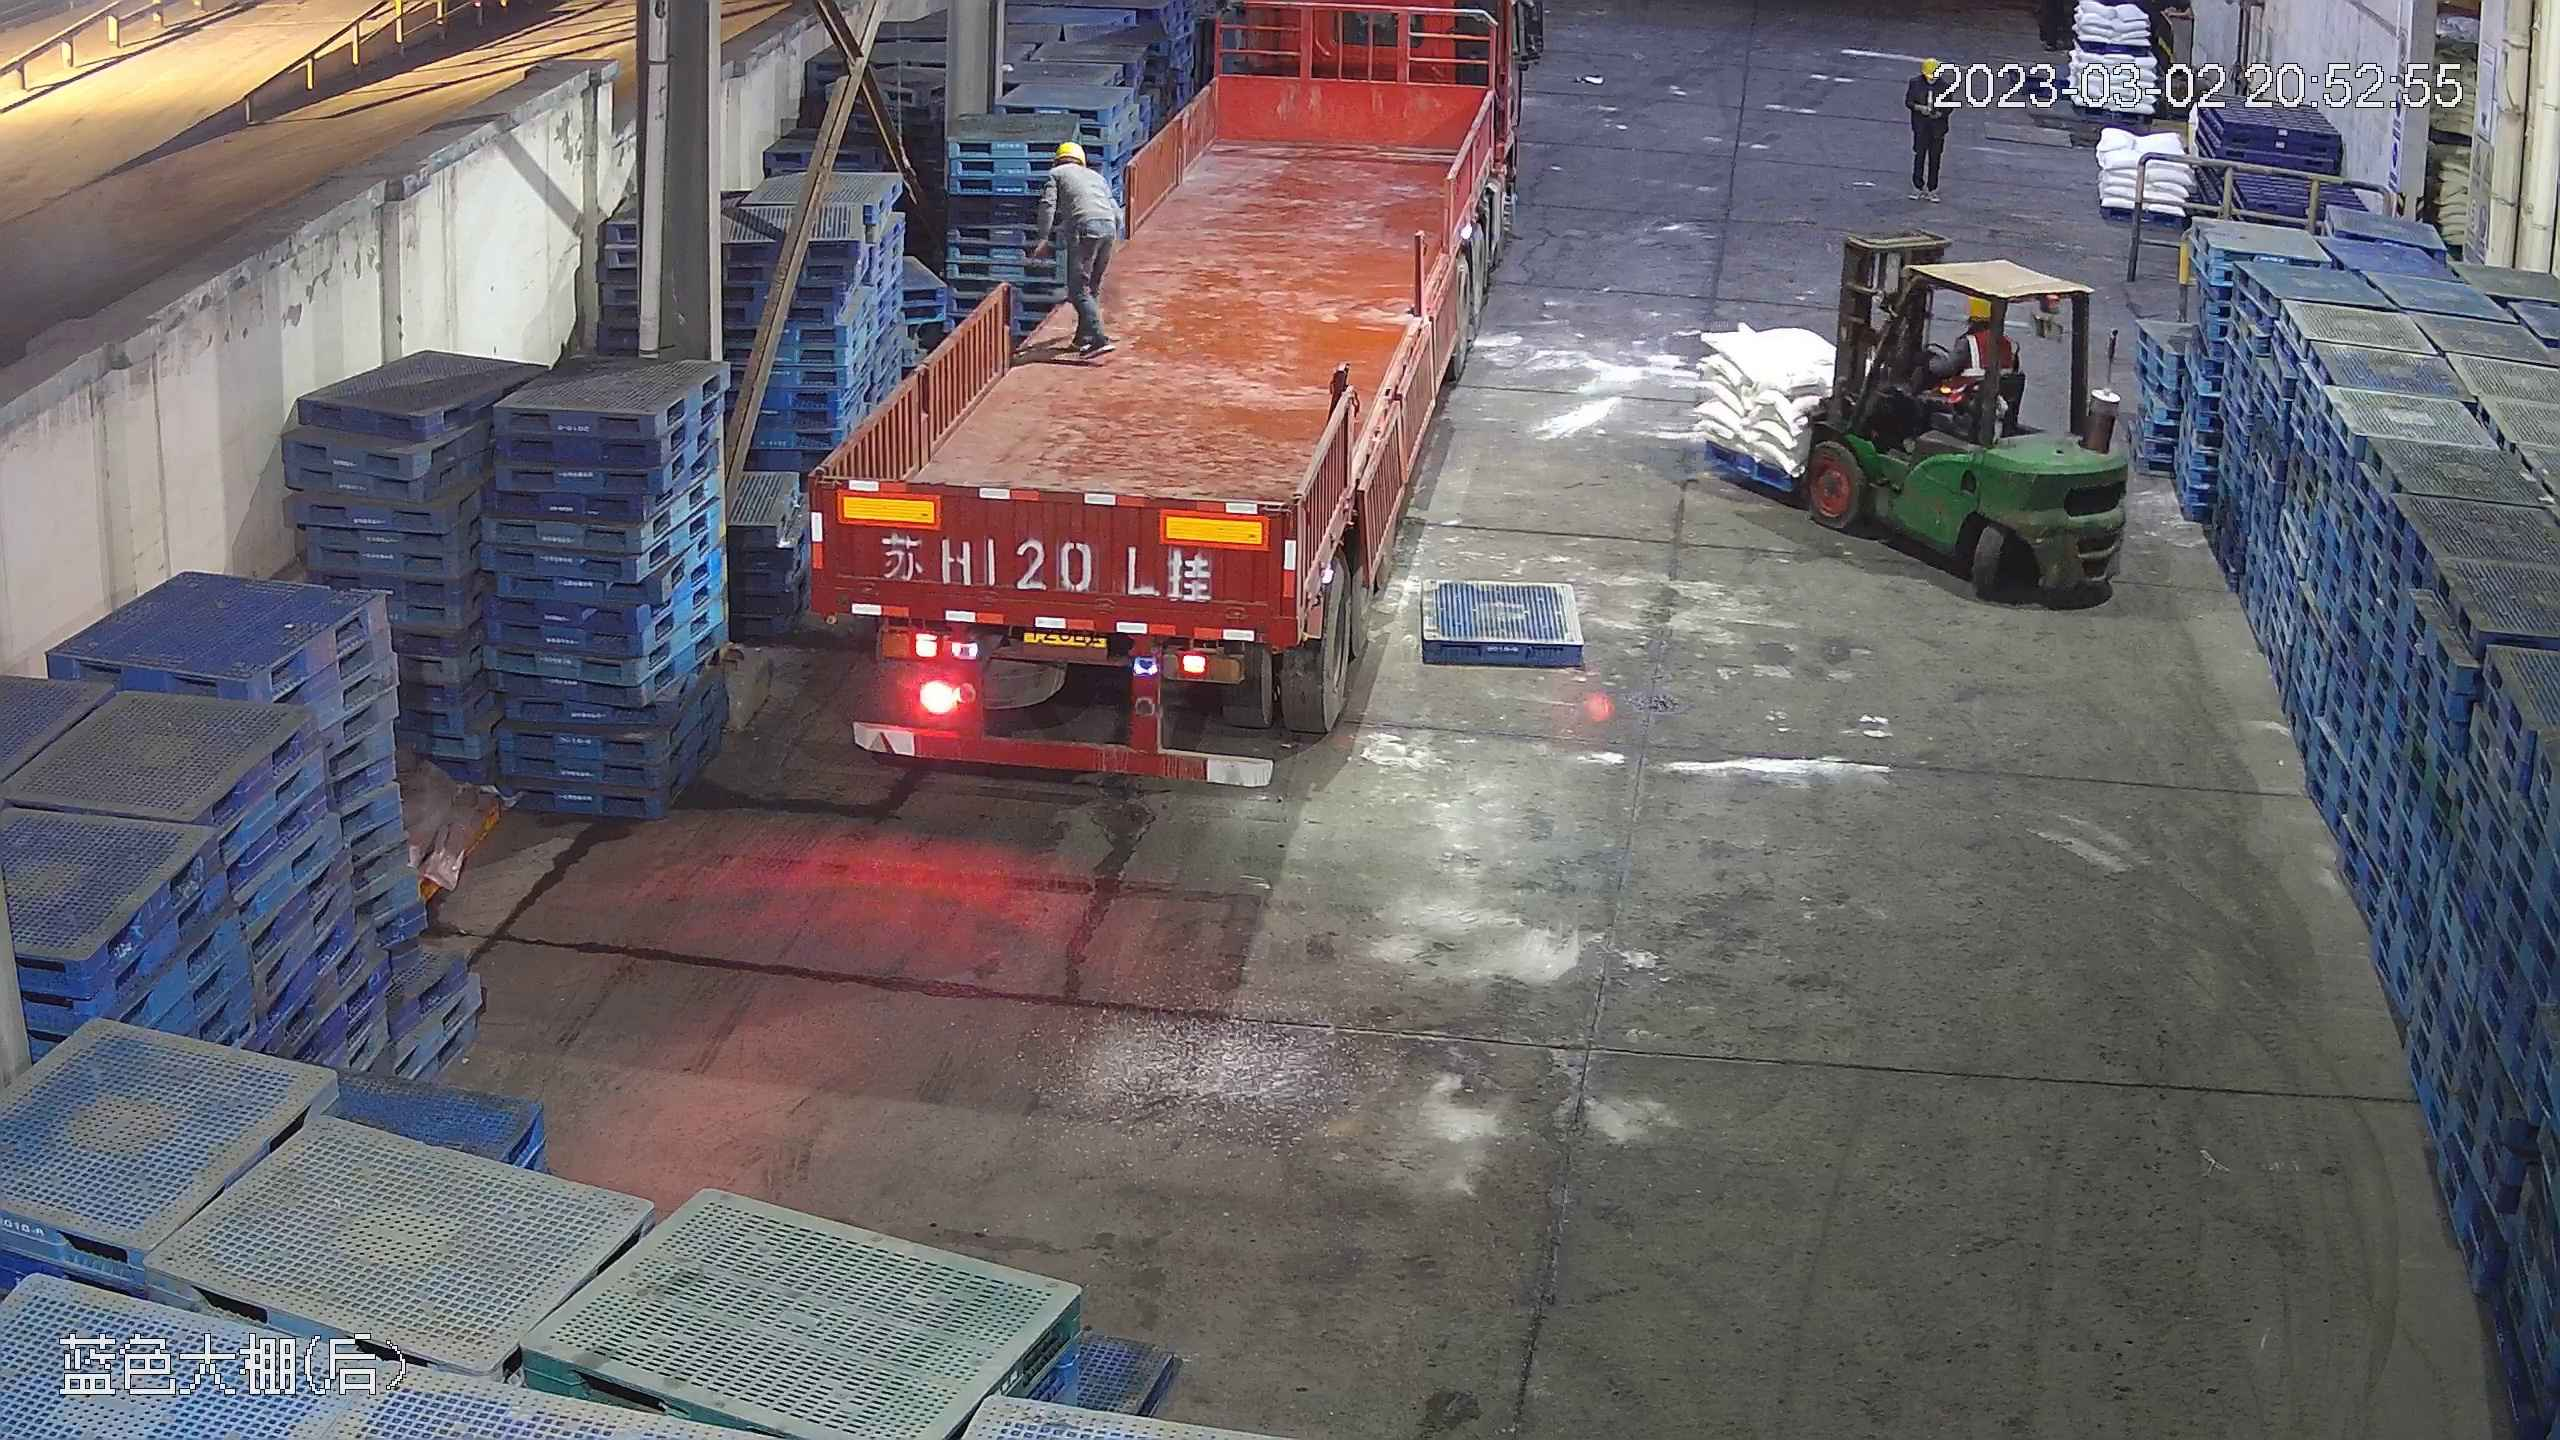head: (1950, 292, 2010, 364), (1045, 137, 1100, 205), (1907, 56, 1949, 102)
helmet: (1962, 291, 1996, 320), (1051, 137, 1082, 161), (1919, 56, 1941, 81)
people: (1037, 132, 1113, 355), (1903, 53, 1953, 198)
truck: (805, 11, 1532, 783)
